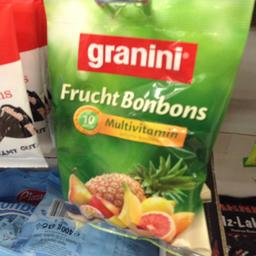candy: (44, 1, 230, 241)
